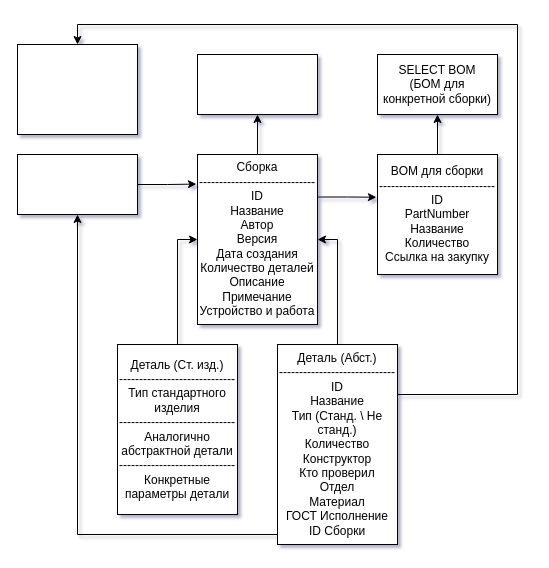
This 549x568 diagram has some shape labels left out. The centre of each missing label's shape, as x and y in pixels:
SELECT Вывод всех стандартных изделий одного типа с конретно их параметрами: point 77,89
SELECT Сборки (Все сборки): point 257,84
SELECT Состав всех деталей (Все детали конкретной сборки): point 77,184
